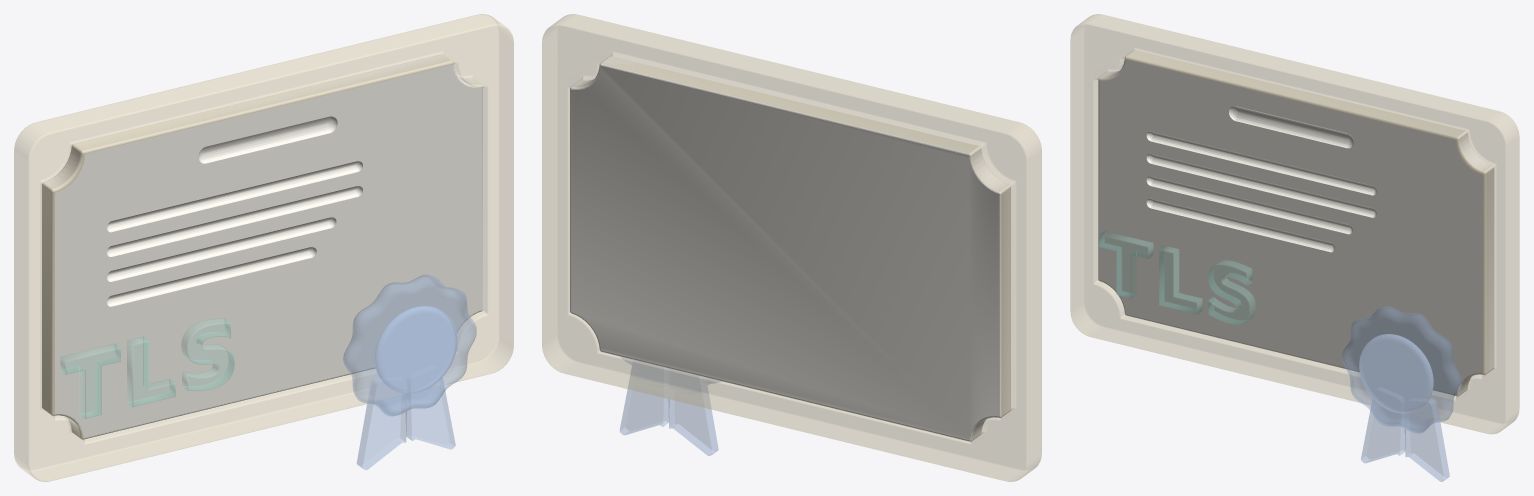
File: acm.glb
3 views of the same model, side by side, from view 1: azimuth 30°, elevation 25°; view 2: azimuth 150°, elevation 25°; view 3: azimuth 330°, elevation 25° (orthographic). The views are drawn at different scales.
Visible parts, largest first — view 1: Engraved glass plaque, Amber certificate frame, Scalloped ribbon seal, Raised TLS lettering, Raised ribbon medallion, Ribbon tail left, Ribbon tail right; view 2: Engraved glass plaque, Amber certificate frame, Ribbon tail left, Ribbon tail right; view 3: Engraved glass plaque, Amber certificate frame, Scalloped ribbon seal, Raised TLS lettering, Raised ribbon medallion, Ribbon tail right, Ribbon tail left.
Boxes of the visible parts, box(x1,y1,x2,y2) form: Engraved glass plaque: box(42, 54, 482, 439); Amber certificate frame: box(14, 14, 513, 481); Scalloped ribbon seal: box(343, 275, 476, 416); Raised TLS lettering: box(60, 319, 234, 418); Raised ribbon medallion: box(375, 306, 456, 393); Ribbon tail left: box(357, 378, 406, 469); Ribbon tail right: box(406, 377, 455, 449); Engraved glass plaque: box(570, 56, 1010, 441); Amber certificate frame: box(542, 14, 1041, 481); Ribbon tail left: box(668, 369, 718, 455); Ribbon tail right: box(620, 360, 669, 434); Engraved glass plaque: box(1098, 50, 1494, 396); Amber certificate frame: box(1070, 14, 1519, 433); Scalloped ribbon seal: box(1342, 306, 1461, 433); Raised TLS lettering: box(1099, 231, 1255, 324); Raised ribbon medallion: box(1359, 334, 1433, 413); Ribbon tail right: box(1404, 399, 1449, 481); Ribbon tail left: box(1361, 399, 1405, 462).
Size of the model in its own units: 4.4 by 3.54 by 0.46.
